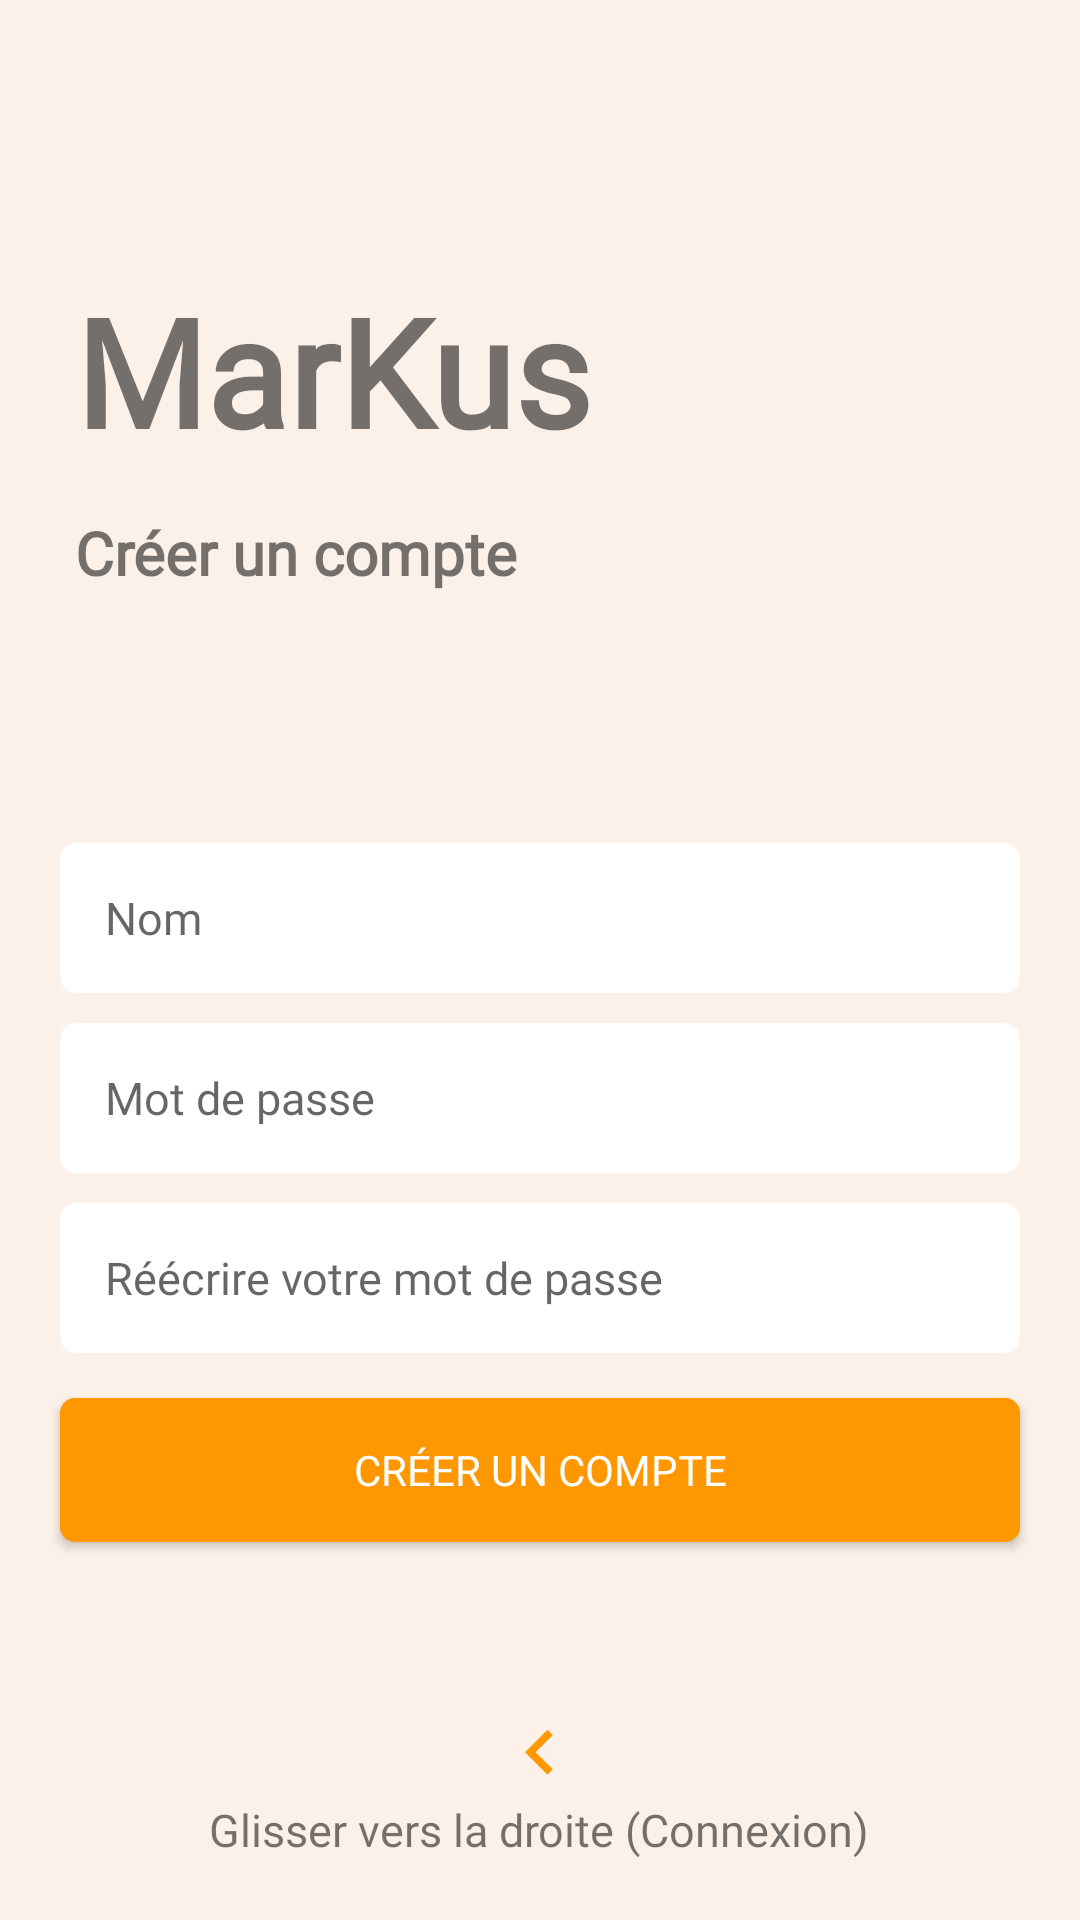

Point at icon controls on the screen. Image size 1080*1920, points as (x=x, y=y).
fleche gauche: (x=539, y=1752)
